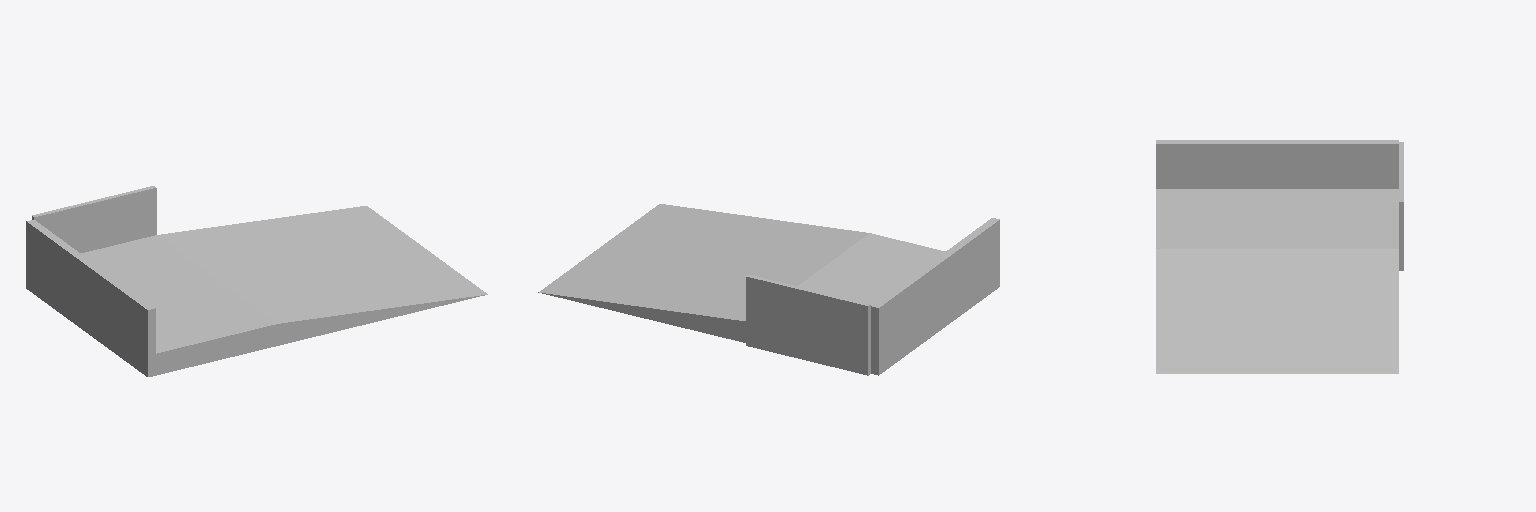
Rendered from ramp.obj.
3 views of the same model, side by side, from view 1: azimuth 30°, elevation 25°; view 2: azimuth 150°, elevation 25°; view 3: azimuth 270°, elevation 25° (orthographic).
Parts seen in each view (by area): view 1: Cube.001_Cube.002; view 2: Cube.001_Cube.002; view 3: Cube.001_Cube.002.
Boxes of the visible parts, x1,y1,x2,y2 form: Cube.001_Cube.002: [26, 186, 487, 376]; Cube.001_Cube.002: [538, 204, 999, 375]; Cube.001_Cube.002: [1156, 140, 1403, 373].
Size of the model in its own units: 32.38 by 6.31 by 20.44.